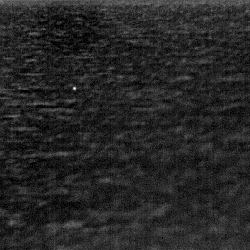dim target: (71, 85, 77, 92)
